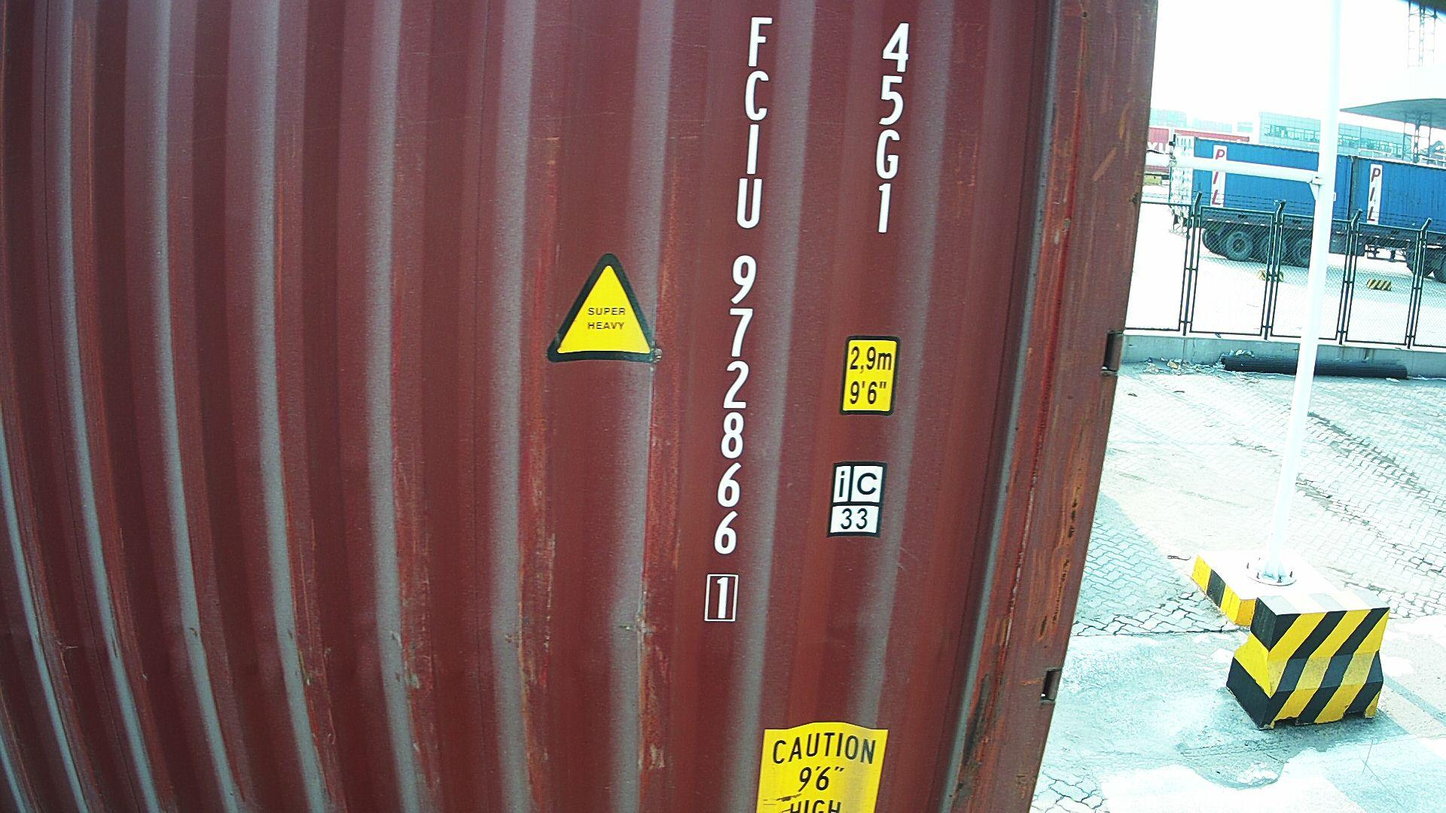container-numbers: (701, 11, 775, 625), (865, 18, 918, 240)
